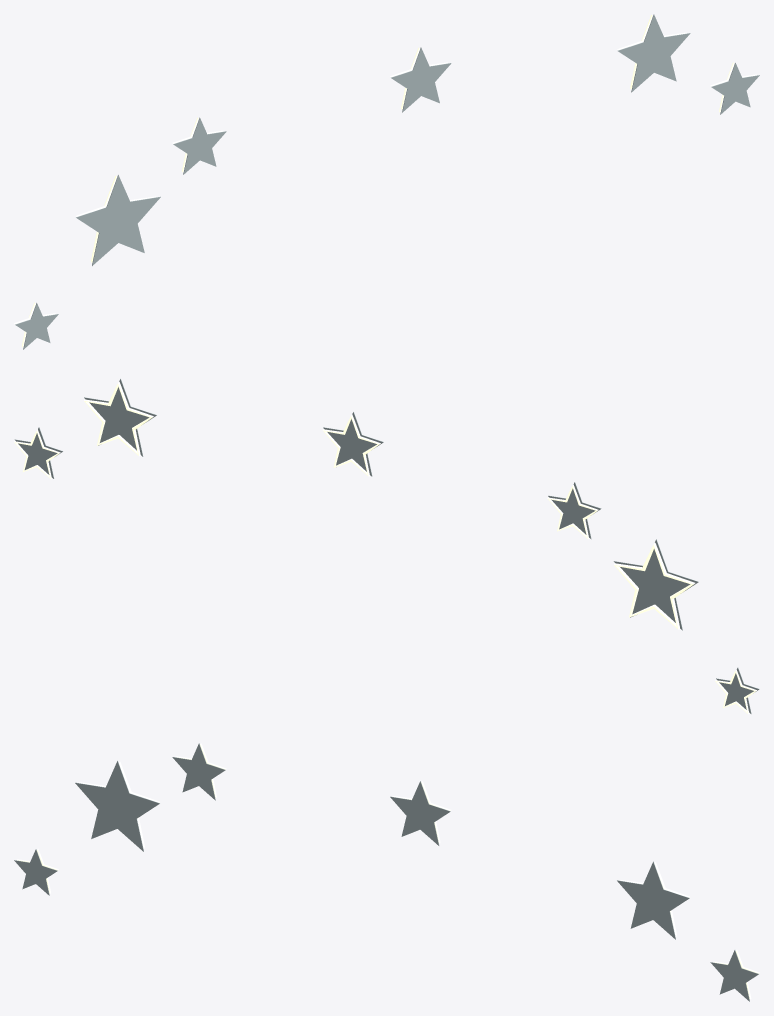
3 views of the same model, one above another, from view 1: azimuth 30°, elevation 25°; view 2: azimuth 150°, elevation 25°; view 3: azimuth 330°, elevation 25° (orthographic).
Visible parts, largest first — view 1: star_0_backer, star_2_backer, star_5_backer, star_1_backer, star_3_backer, star_4_backer; view 2: star_0_backer, star_2_backer, star_5_backer, star_0_tube, star_1_backer, star_3_backer, star_2_tube, star_4_backer, star_5_tube; view 3: star_0_backer, star_2_backer, star_5_backer, star_1_backer, star_3_backer, star_4_backer.
Part boxes in pixels (bbox=[...]): star_0_backer: bbox=[76, 175, 160, 265]; star_2_backer: bbox=[617, 14, 690, 92]; star_5_backer: bbox=[391, 47, 451, 112]; star_1_backer: bbox=[173, 117, 226, 174]; star_3_backer: bbox=[711, 63, 759, 114]; star_4_backer: bbox=[15, 303, 58, 349]; star_0_backer: bbox=[613, 539, 698, 630]; star_2_backer: bbox=[84, 378, 156, 456]; star_5_backer: bbox=[323, 412, 383, 476]; star_0_tube: bbox=[614, 542, 695, 629]; star_1_backer: bbox=[548, 482, 601, 539]; star_3_backer: bbox=[14, 427, 63, 478]; star_2_tube: bbox=[84, 382, 153, 456]; star_4_backer: bbox=[716, 667, 759, 713]; star_5_tube: bbox=[322, 414, 380, 476]; star_0_backer: bbox=[75, 760, 159, 851]; star_2_backer: bbox=[617, 861, 689, 939]; star_5_backer: bbox=[390, 781, 450, 845]; star_1_backer: bbox=[172, 743, 225, 800]; star_3_backer: bbox=[710, 950, 758, 1001]; star_4_backer: bbox=[14, 849, 57, 895].
Size of the model in its own units: 6.4 by 1.69 by 0.0442.
